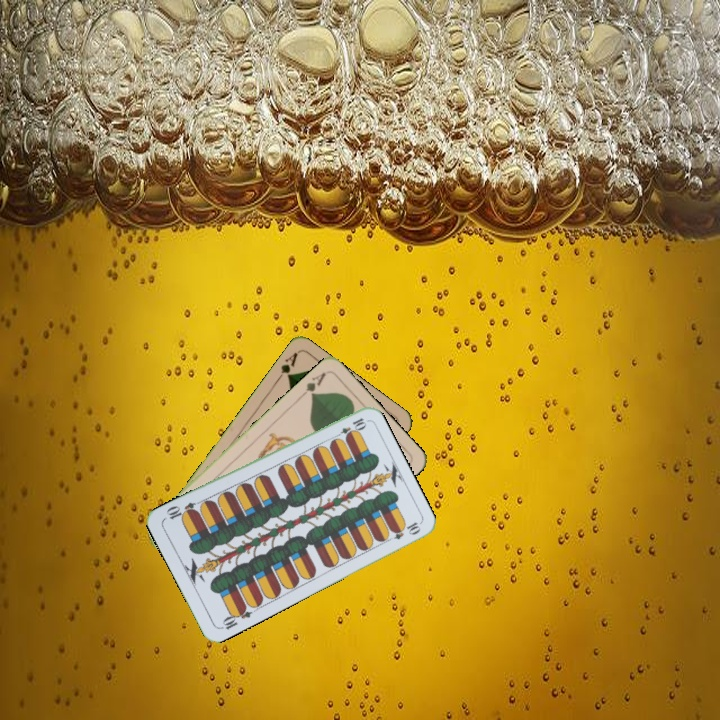E10: (216, 602, 254, 632), (330, 414, 369, 442)
GA: (296, 368, 329, 400), (272, 348, 301, 384)
